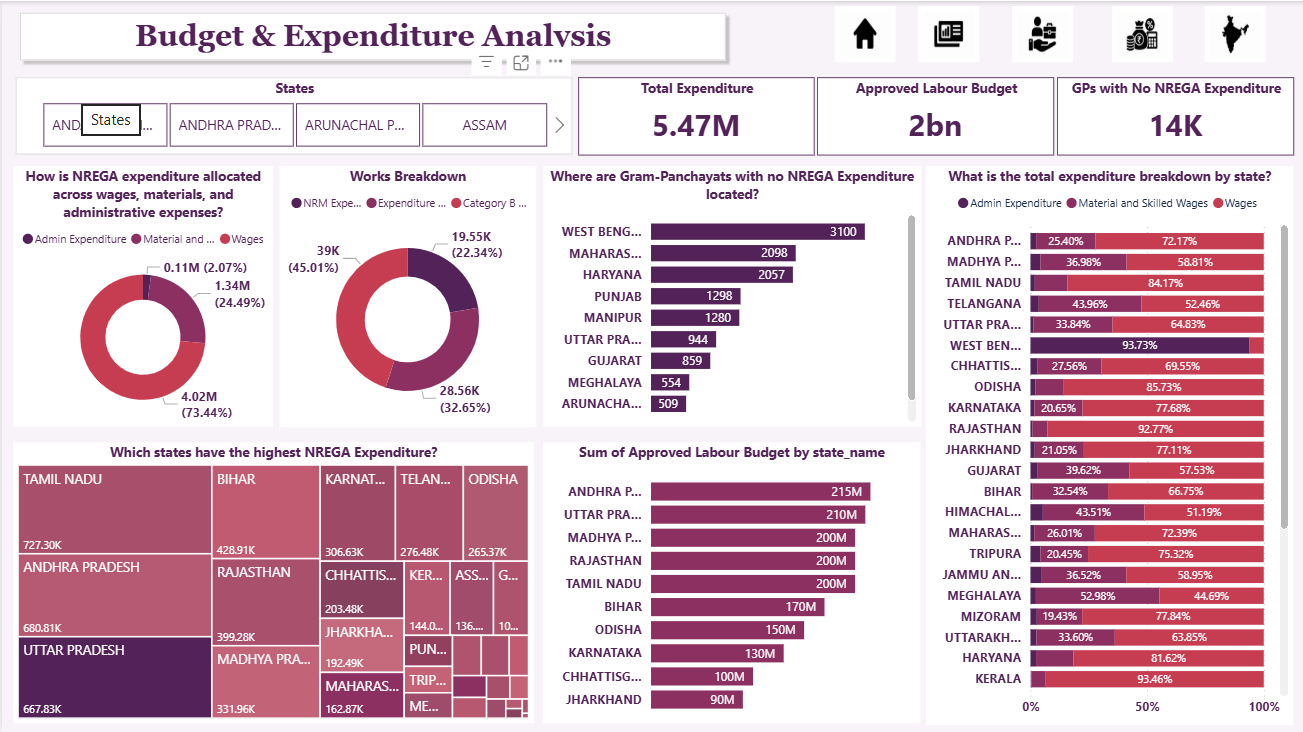

This screenshot's page, from the dashboard's own definition file:
{"tool":"powerbi","page":{"name":"Budget & Expenditure Analysis","canvas":[1280,720],"ordinal":1},"visuals":[{"type":"shape","box":[11,5,706,60],"z":0},{"type":"textbox","title":"Budget & Expenditure Analysis","box":[120.2,17.2,488.3,36.8],"z":1000},{"type":"card","title":"Total Expenditure","fields":{"Values":["NREGA Data.Total Expenditure"]},"box":[566,75,232,77],"z":2000},{"type":"card","title":"Approved Labour Budget","fields":{"Values":["Sum(NREGA Data.Approved Labour Budget)"]},"box":[800,75,233,77],"z":3000},{"type":"card","title":"GPs with No NREGA Expenditure","fields":{"Values":["NREGA Data.GPs with No NREGA Expenditure"]},"box":[1035,75,233,77],"z":4000},{"type":"slicer","title":"States","fields":{"Values":["NREGA Data.state_name"]},"box":[13,75,546,76],"z":5000},{"type":"donutChart","title":"How is NREGA expenditure allocated across wages, materials, and administrative expenses?","fields":{"Y":["Sum(NREGA Data.Total Adm Expenditure (Rs. in Lakhs.))","Sum(NREGA Data.Material and skilled Wages(Rs. In Lakhs))","Sum(NREGA Data.Wages(Rs. In Lakhs))"]},"box":[11,162,255,256],"z":6000},{"type":"donutChart","title":"Works Breakdown","fields":{"Y":["Sum(NREGA Data.% of NRM Expenditure(Public + Individual))","Sum(NREGA Data.% of Expenditure on Agriculture & Agriculture Allied Works)","Sum(NREGA Data.% of Category B Works)"]},"box":[272.4,162,252,256.4],"z":7000},{"type":"hundredPercentStackedBarChart","title":"What is the total expenditure breakdown by state?","fields":{"Category":["NREGA Data.state_name"],"Y":["Sum(NREGA Data.Total Adm Expenditure (Rs. in Lakhs.))","Sum(NREGA Data.Material and skilled Wages(Rs. In Lakhs))","Sum(NREGA Data.Wages(Rs. In Lakhs))"]},"box":[907,162,361,549],"z":8000},{"type":"treemap","title":"Which states have the highest NREGA Expenditure?","fields":{"Group":["NREGA Data.state_name"],"Values":["NREGA Data.Total Expenditure"]},"box":[11,433,511,276],"z":9000},{"type":"clusteredBarChart","title":"Where are Gram-Panchayats with no NREGA Expenditure located?","fields":{"Category":["NREGA Data.state_name"],"Y":["Sum(NREGA Data.Number of GPs with NIL exp)"]},"box":[531,162,371,256],"z":10000},{"type":"image","box":[899,5,60,55],"z":11000},{"type":"image","box":[817,5,60,55],"z":12000},{"type":"image","box":[1090,5,60,55],"z":13000},{"type":"image","box":[992,5,60,55],"z":14000},{"type":"image","box":[1180,5,60,55],"z":15000},{"type":"clusteredBarChart","fields":{"Category":["NREGA Data.state_name"],"Y":["Sum(NREGA Data.Approved Labour Budget)"]},"box":[531.3,433.1,370.6,276.1],"z":16000}]}

Visuals, with their boxes in screenshot pixels (x1, y1, x2, y2), scaled from the page's 1280x720 canvas onto the 1303x732 screenshot:
shape: select_region(11, 5, 730, 66)
"Budget & Expenditure Analysis" textbox: select_region(122, 17, 619, 55)
"Total Expenditure" card: select_region(576, 76, 812, 155)
"Approved Labour Budget" card: select_region(814, 76, 1052, 155)
"GPs with No NREGA Expenditure" card: select_region(1054, 76, 1291, 155)
"States" slicer: select_region(13, 76, 569, 154)
"How is NREGA expenditure allocated across wages, materials, and administrative expenses?" donutChart: select_region(11, 165, 271, 425)
"Works Breakdown" donutChart: select_region(277, 165, 534, 425)
"What is the total expenditure breakdown by state?" hundredPercentStackedBarChart: select_region(923, 165, 1291, 723)
"Which states have the highest NREGA Expenditure?" treemap: select_region(11, 440, 531, 721)
"Where are Gram-Panchayats with no NREGA Expenditure located?" clusteredBarChart: select_region(541, 165, 918, 425)
image: select_region(915, 5, 976, 61)
image: select_region(832, 5, 893, 61)
image: select_region(1110, 5, 1171, 61)
image: select_region(1010, 5, 1071, 61)
image: select_region(1201, 5, 1262, 61)
clusteredBarChart - NREGA Data.state_name x Sum(NREGA Data.Approved Labour Budget): select_region(541, 440, 918, 721)
